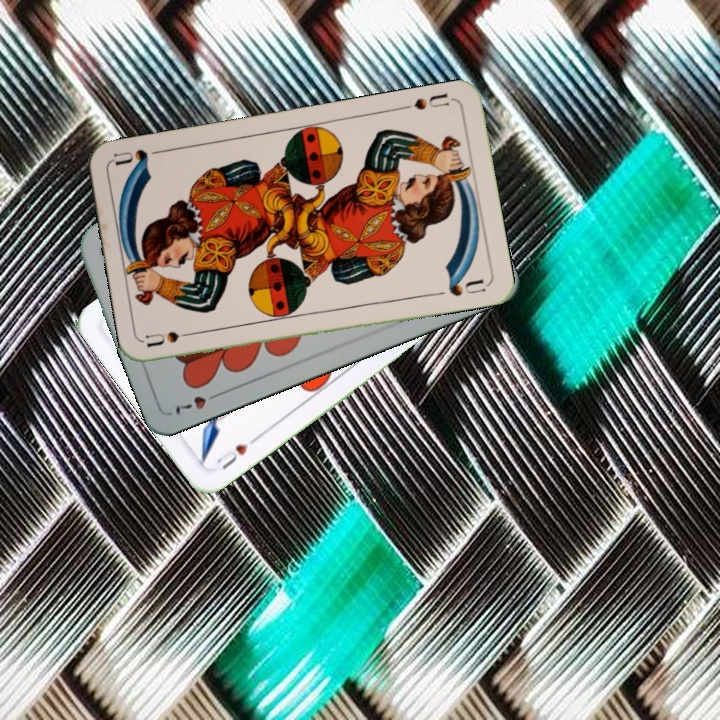H7: (171, 387, 225, 418)
HU: (212, 432, 261, 473)
SU: (142, 327, 202, 350), (410, 89, 452, 113)
